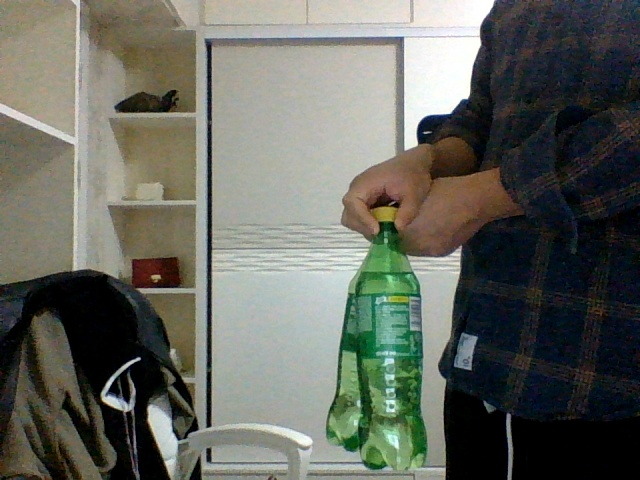Sprite: (355, 206, 428, 470)
